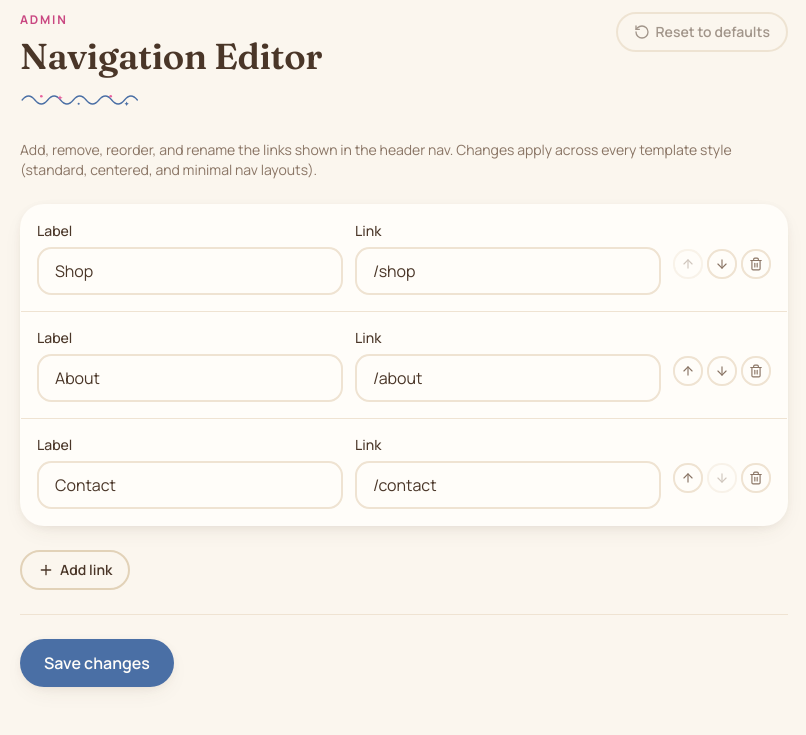
Test case: NavigationEditor › blocks saving with an empty label
The width and height of the screenshot is (806, 735).
Clear the 1st field labelled "Label": (190, 271) [37,247,343,295]
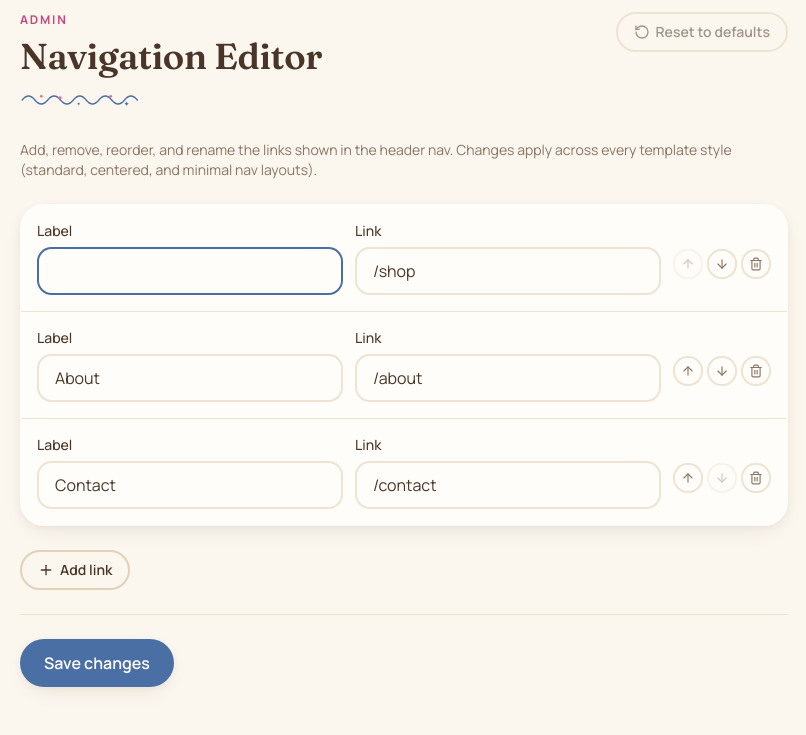
Click the button "Save changes": (97, 663) [20,639,174,687]
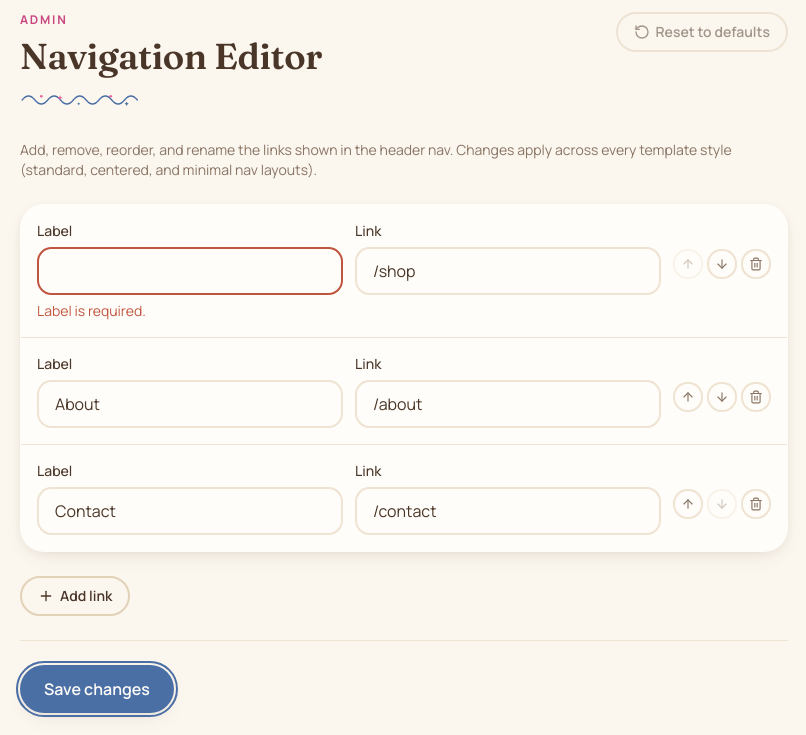
expect the text "Label is required." is shown: met, box [37,301,146,320]
